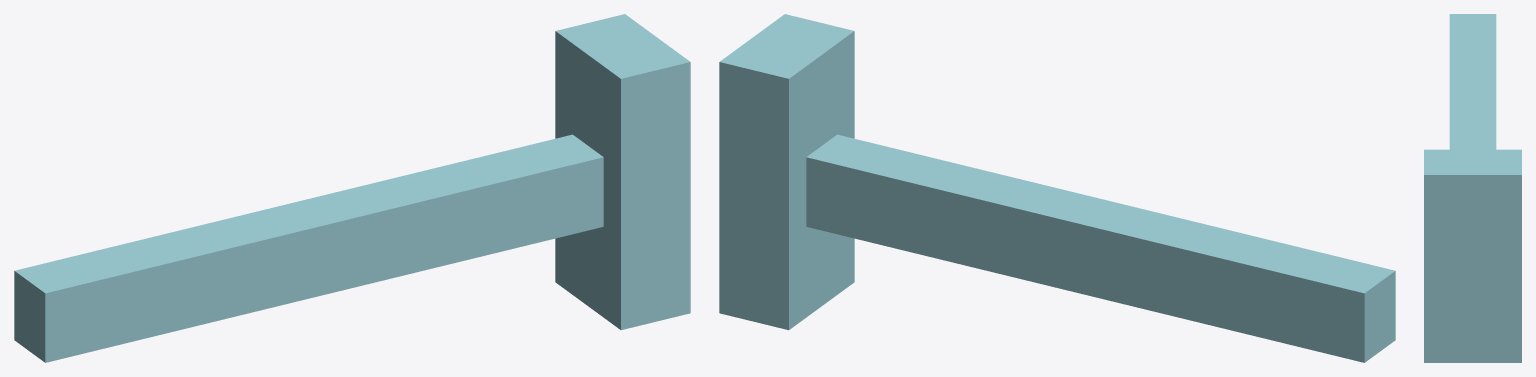
File: cuboid_hammer_v003.obj
The picture shows the model from 3 angles, left to right: view 1: azimuth 30°, elevation 25°; view 2: azimuth 150°, elevation 25°; view 3: azimuth 270°, elevation 25°; orthographic projection. The views are drawn at different scales.
Size of the model in its own units: 0.3083 by 0.1179 by 0.0557.
Materials: 1 (1 with a texture image).
